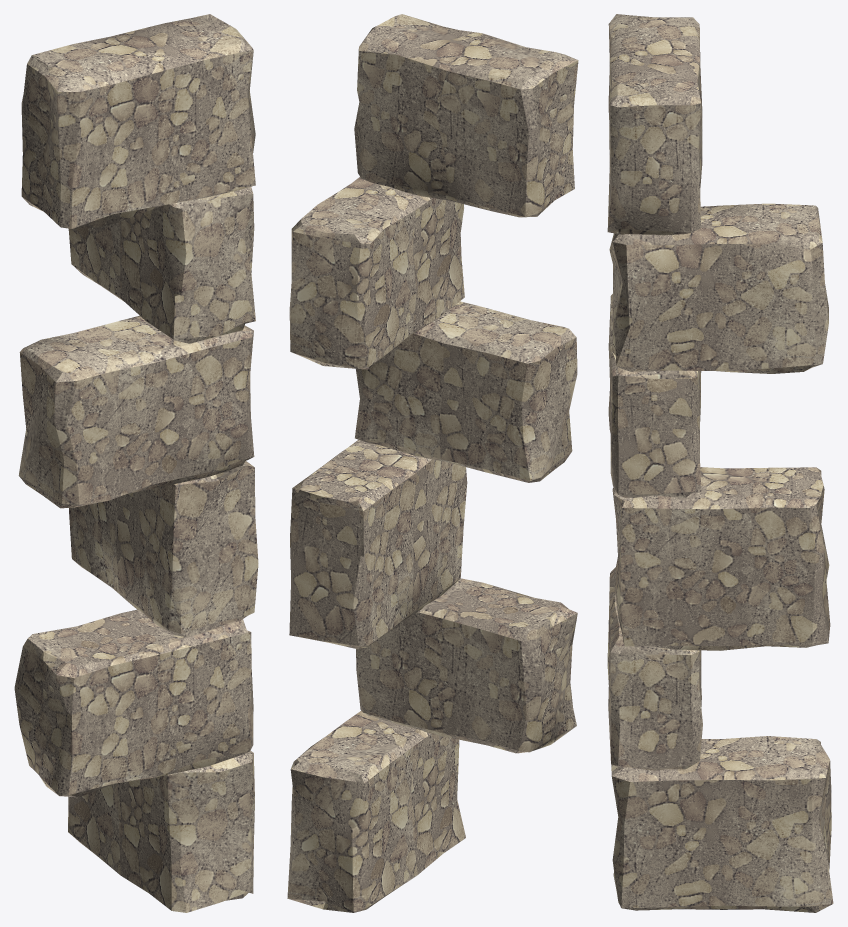
The model's file is SM_Ruins_EdgeStones_01.fbx.
3 views of the same model, side by side, from view 1: azimuth 30°, elevation 25°; view 2: azimuth 150°, elevation 25°; view 3: azimuth 270°, elevation 25° (orthographic). The views are drawn at different scales.
Parts seen in each view (by area): view 1: Ruins_Edge_Stones; view 2: Ruins_Edge_Stones; view 3: Ruins_Edge_Stones.
Boxes of the visible parts, left/top/right/bottom form: Ruins_Edge_Stones: left=14, top=14, right=258, bottom=912; Ruins_Edge_Stones: left=287, top=14, right=578, bottom=912; Ruins_Edge_Stones: left=607, top=14, right=833, bottom=912.
Size of the model in its own units: 50.36 by 202 by 50.8.
